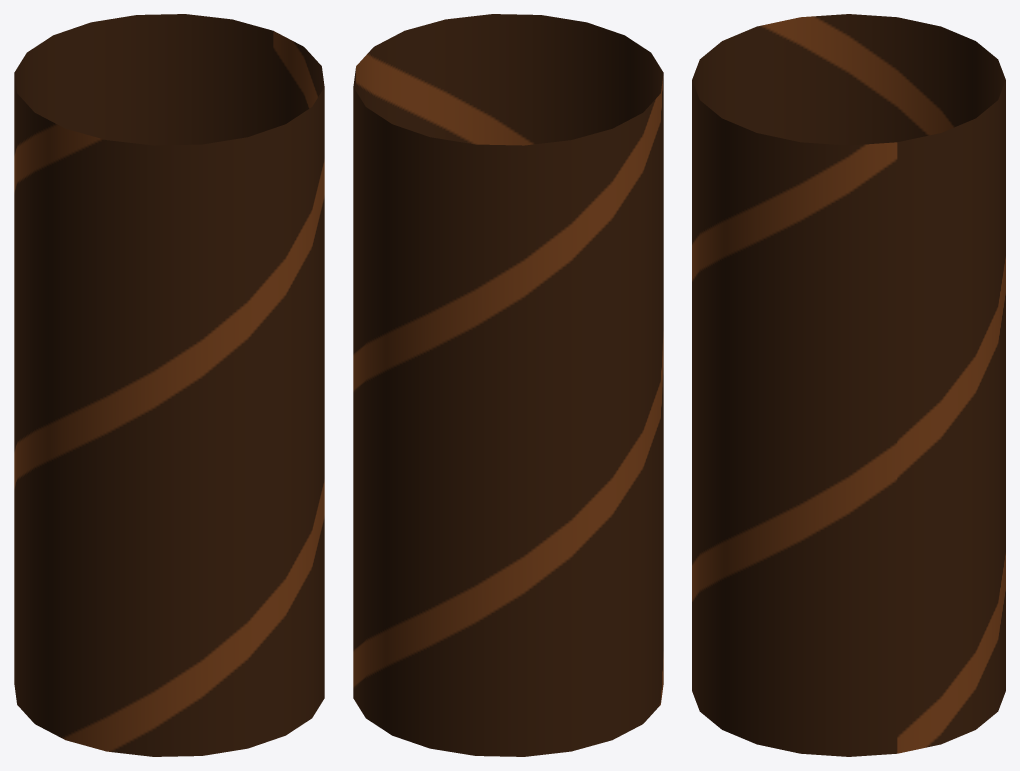
Rendered from espresso.fbx.
The picture shows the model from 3 angles, left to right: view 1: azimuth 30°, elevation 25°; view 2: azimuth 150°, elevation 25°; view 3: azimuth 270°, elevation 25°; orthographic projection.
Parts seen in each view (by area): view 1: pCylinder1; view 2: pCylinder1; view 3: pCylinder1.
Part boxes in pixels (x1,y1,x2,y2): pCylinder1: (14, 14, 324, 756); pCylinder1: (353, 14, 663, 756); pCylinder1: (692, 14, 1005, 756).
Bounding box in the file's own units: 1.07 × 2.31 × 1.07.
1 material, 1 textured.
